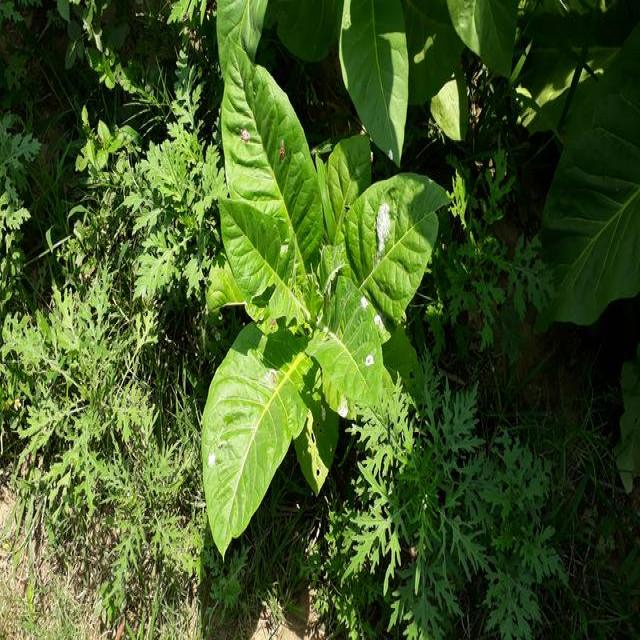crop: (213, 52, 443, 538)
